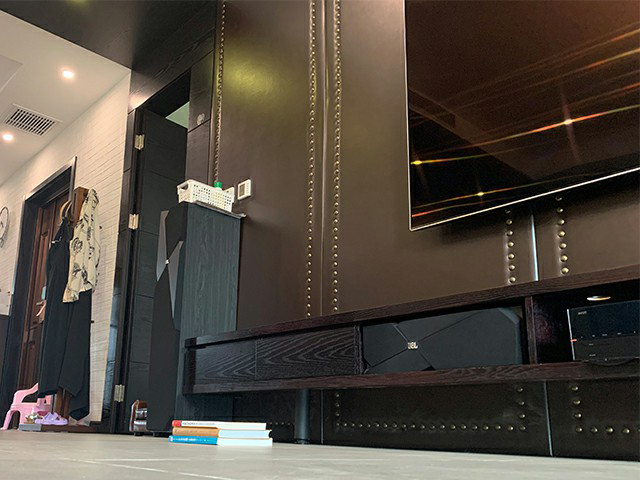book: (167, 418, 273, 448)
cabinet: (185, 264, 639, 444)
stool: (1, 382, 37, 431)
